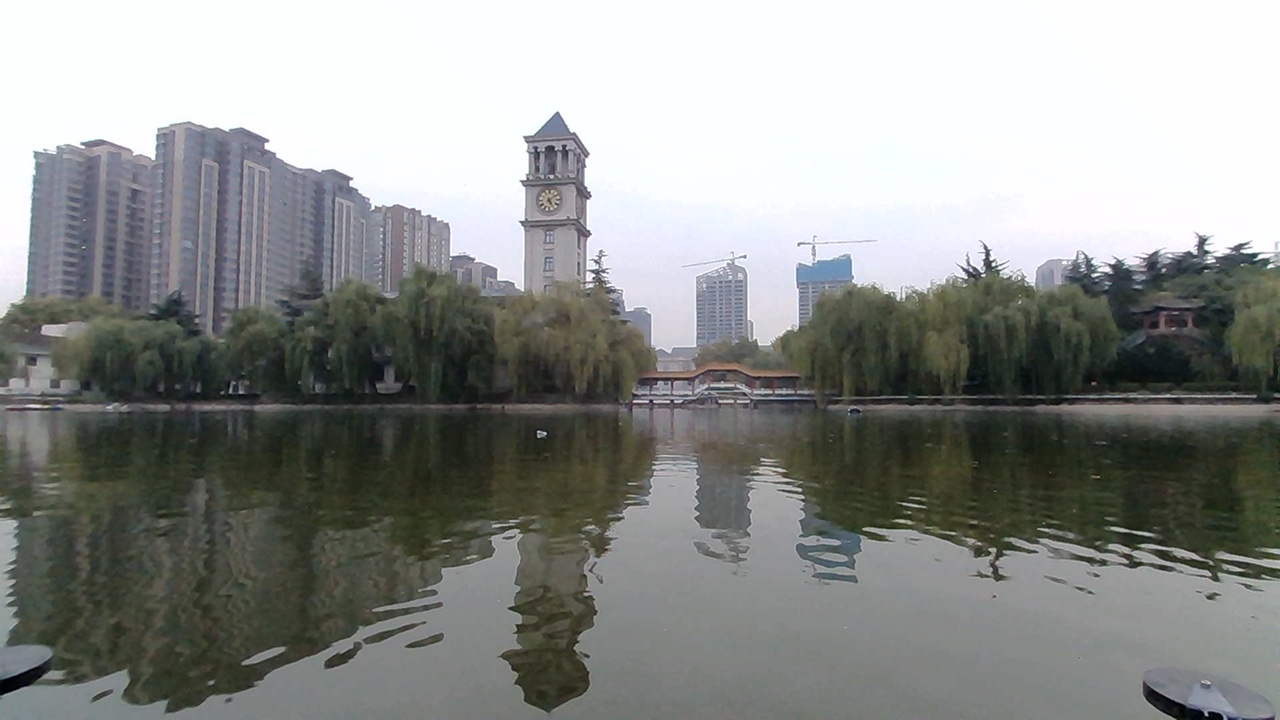bottle: (530, 420, 558, 442)
